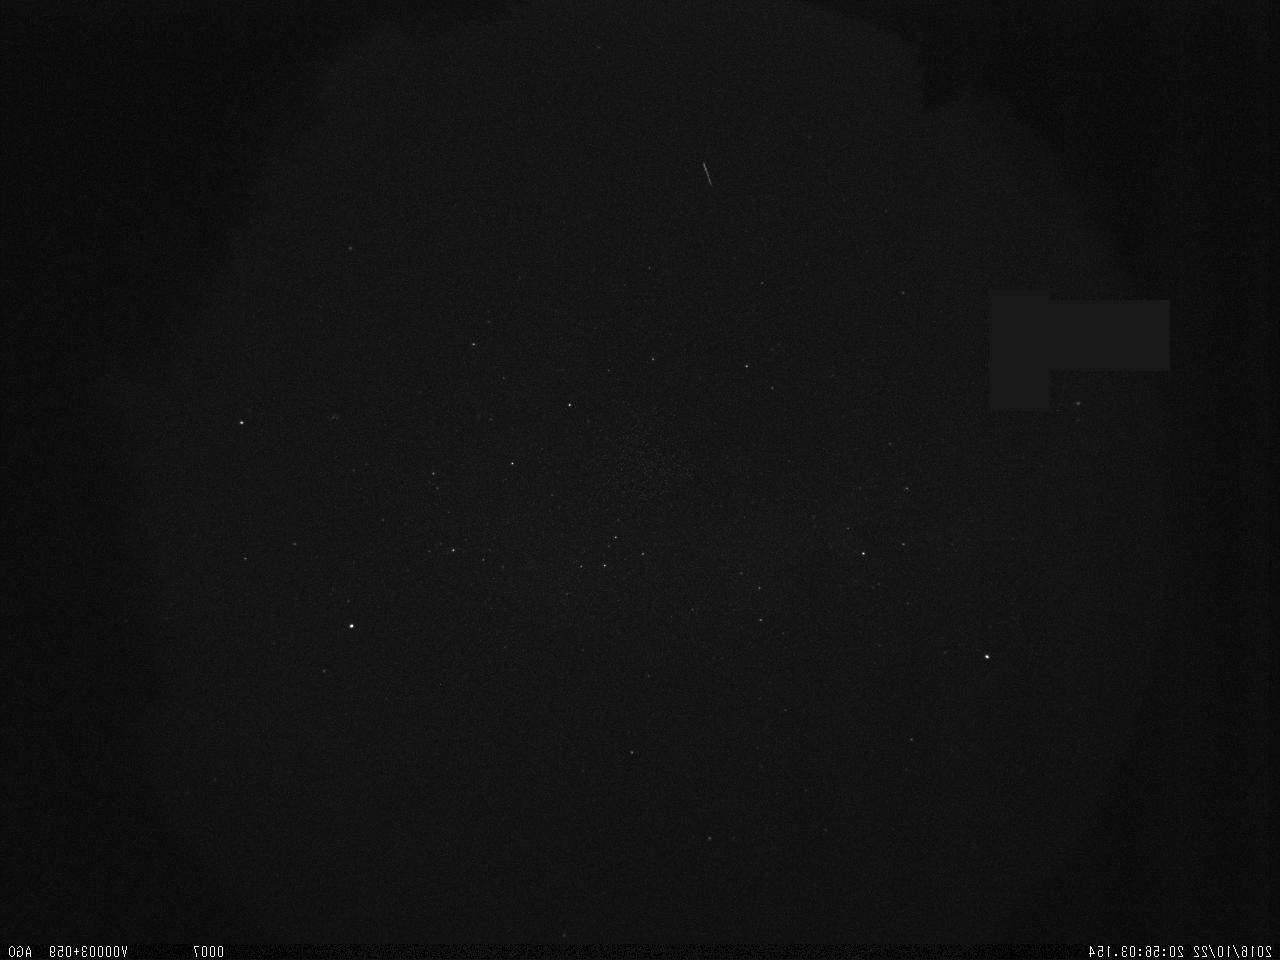meteor: (693, 157, 721, 192)
